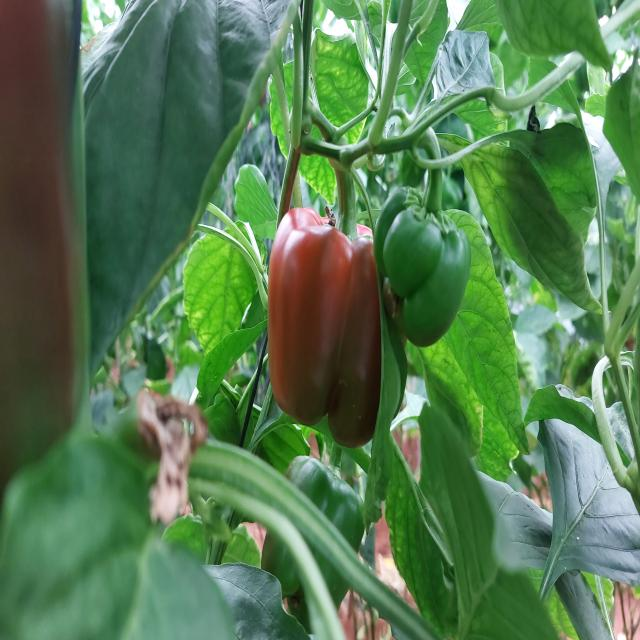BrownishRed--Can-be-Harvested: (268, 212, 395, 456)
Green--Not-ready-to-harvest: (381, 192, 469, 350)
